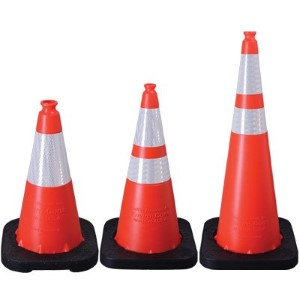traffic cone: (200, 31, 298, 270), (100, 83, 198, 270), (1, 99, 99, 272)
